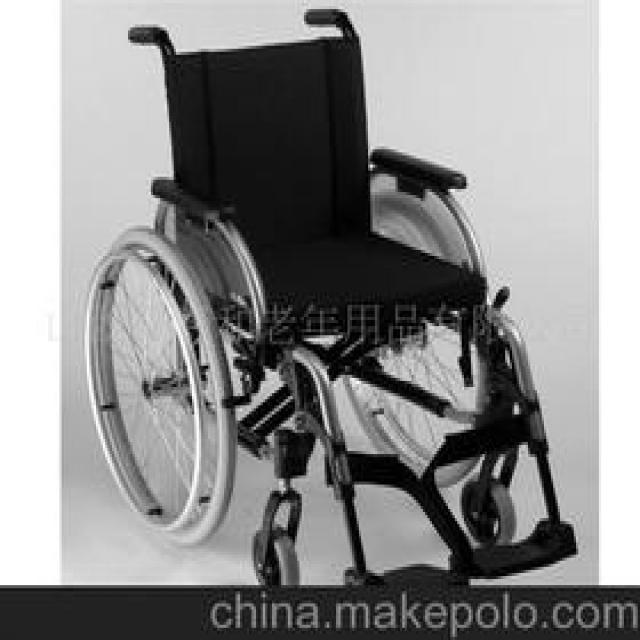wheelchairs: (86, 8, 584, 585)
